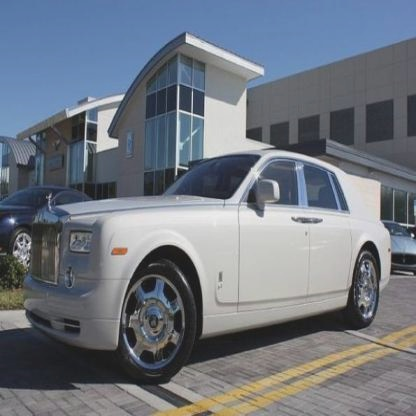Vehicle: (24, 147, 394, 386)
